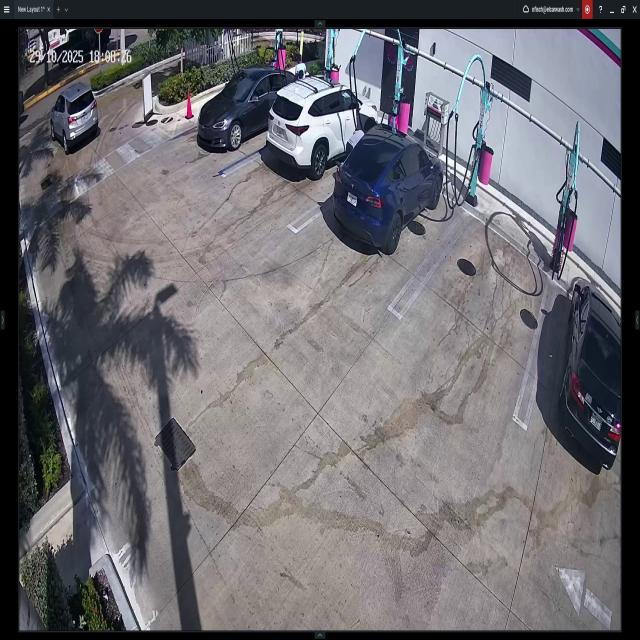Car: (332, 133, 445, 245), (561, 279, 619, 469), (274, 81, 378, 174), (201, 68, 298, 156), (50, 86, 100, 157)
